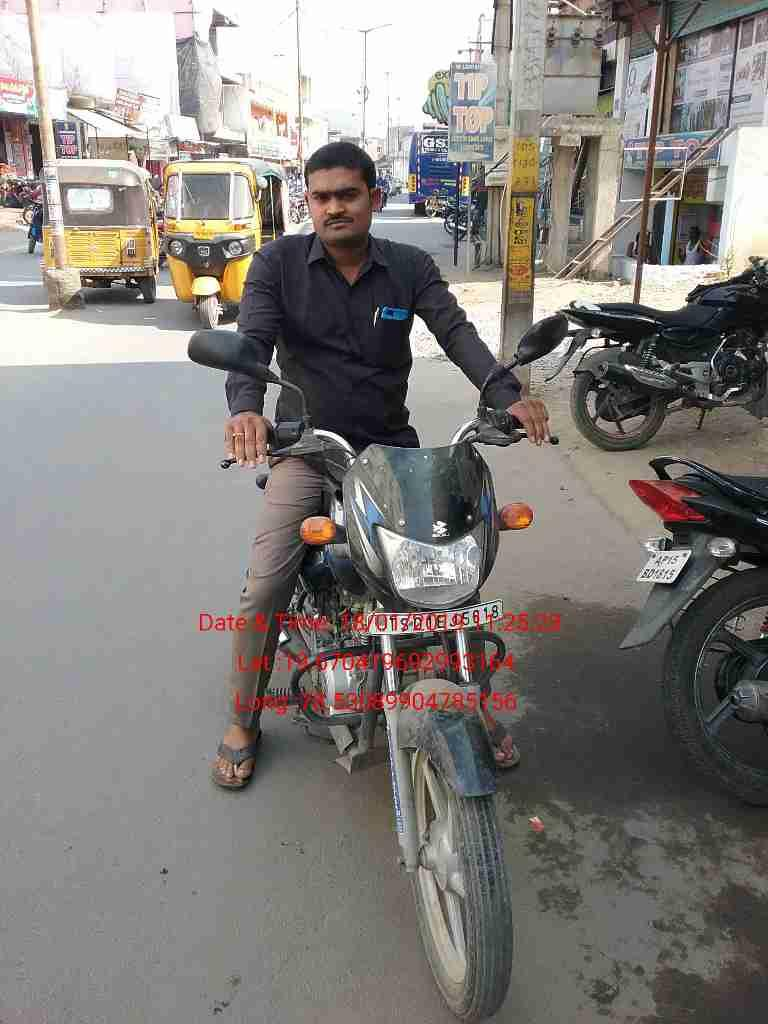plate: (638, 546, 696, 582)
